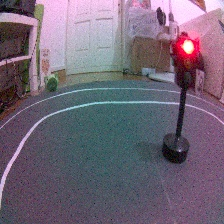red: (163, 31, 201, 164)
